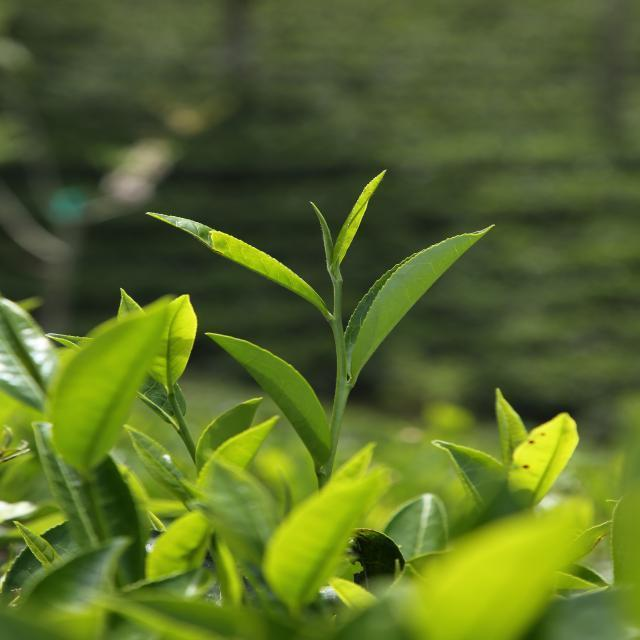Stem: (334, 280, 343, 291)
